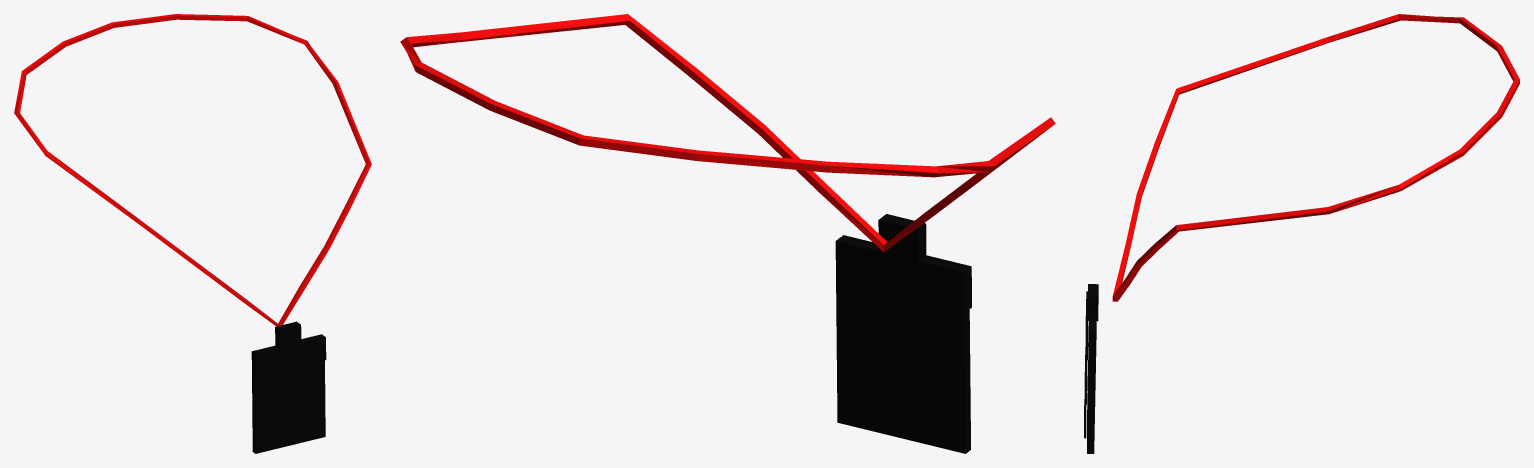
File: neck_lanyard_badge_01.glb
3 renders of one model, left to right at view 1: azimuth 30°, elevation 25°; view 2: azimuth 150°, elevation 25°; view 3: azimuth 270°, elevation 25°, orthographic. The views are drawn at different scales.
Parts seen in each view (by area): view 1: neck_lanyard_badge_01; view 2: neck_lanyard_badge_01; view 3: neck_lanyard_badge_01.
Part boxes in pixels (bbox=[...]): neck_lanyard_badge_01: bbox=[14, 14, 371, 453]; neck_lanyard_badge_01: bbox=[400, 14, 1055, 453]; neck_lanyard_badge_01: bbox=[1084, 14, 1519, 453].
Bounding box in the file's own units: 0.2311 × 0.2195 × 0.2448.
Materials: 1 (1 with a texture image).
